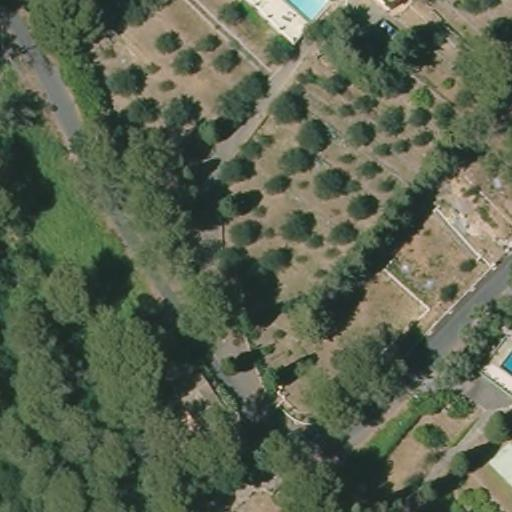pool: (281, 0, 336, 23)
